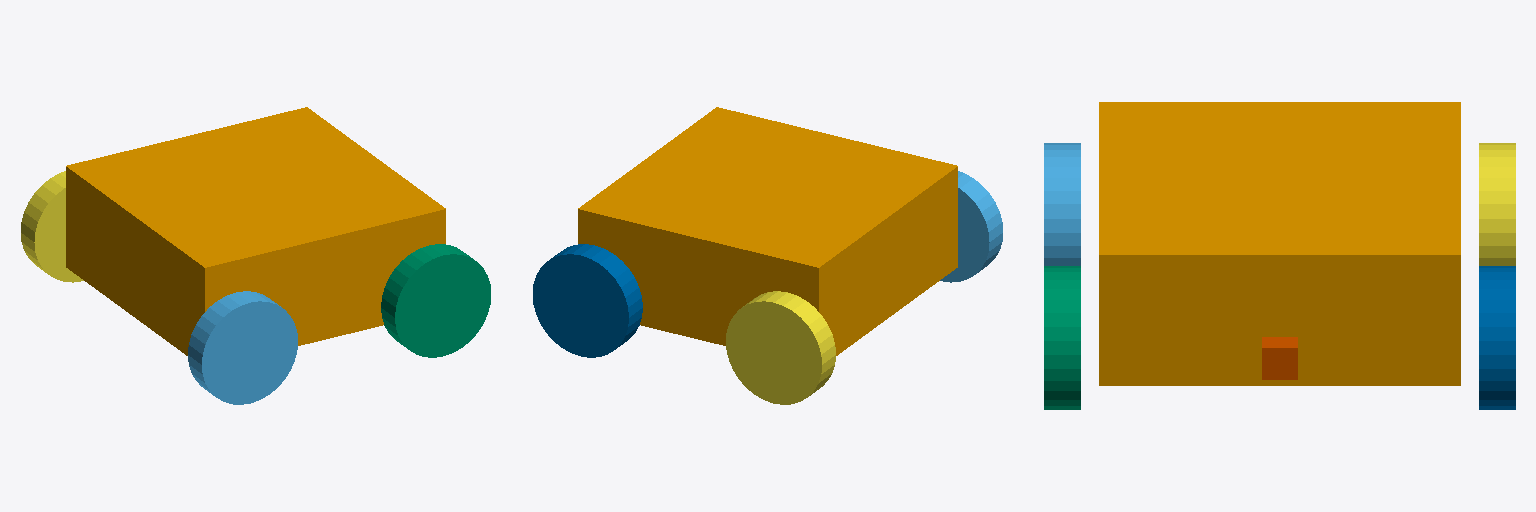
The robot description file, URDF, robot "atom":
<?xml version="1.0" encoding="utf-8"?>
<!-- =================================================================================== -->
<!-- |    This document was autogenerated by xacro from mid40_atom.xacro               | -->
<!-- |    EDITING THIS FILE BY HAND IS NOT RECOMMENDED                                 | -->
<!-- =================================================================================== -->
<robot name="atom">
  <!-- Make Chassis of Bot -->
  <link name="chassis">
    <pose>0 0 0.1 0 0 0</pose>
    <inertial>
      <mass value="15"/>
      <origin rpy=" 0 0 0" xyz="0.0 0 0"/>
      <inertia ixx="0.147116667" ixy="0" ixz="0" iyy="0.334951167" iyz="0" izz="0.3978345"/>
    </inertial>
    <collision name="collision">
      <origin rpy=" 0 0 0" xyz="0 0 0.05"/>
      <geometry>
        <box size="0.5 0.5 0.2"/>
      </geometry>
    </collision>
    <visual name="chassis_visual">
      <origin rpy=" 0 0 0" xyz="0 0 0.05"/>
      <geometry>
        <box size="0.5 0.5 0.2"/>
      </geometry>
    </visual>
  </link>
  <!-- Right Wheel Back -->
  <link name="right_wheel_back">
    <inertial>
      <mass value="5"/>
      <origin rpy="0 1.5707 1.5707" xyz="0 0 0"/>
      <inertia ixx="0.1" ixy="0.0" ixz="0.0" iyy="0.1" iyz="0.0" izz="0.1"/>
    </inertial>
    <visual>
      <origin rpy="0 1.5707 1.5707" xyz="0 0 0"/>
      <geometry>
        <cylinder length="0.05" radius="0.1"/>
      </geometry>
    </visual>
    <collision>
      <origin rpy="0 1.5707 1.5707" xyz="0 0 0"/>
      <geometry>
        <cylinder length="0.05" radius="0.1"/>
      </geometry>
    </collision>
  </link>
  <!-- Right Wheel Front-->
  <link name="right_wheel_front">
    <inertial>
      <mass value="5"/>
      <origin rpy="0 1.5707 1.5707" xyz="0 0 0"/>
      <inertia ixx="0.1" ixy="0.0" ixz="0.0" iyy="0.1" iyz="0.0" izz="0.1"/>
    </inertial>
    <visual>
      <origin rpy="0 1.5707 1.5707" xyz="0 0 0"/>
      <geometry>
        <cylinder length="0.05" radius="0.1"/>
      </geometry>
    </visual>
    <collision>
      <origin rpy="0 1.5707 1.5707" xyz="0 0 0"/>
      <geometry>
        <cylinder length="0.05" radius="0.1"/>
      </geometry>
    </collision>
  </link>
  <!-- Left wheel Back-->
  <link name="left_wheel_back">
    <inertial>
      <mass value="5"/>
      <origin rpy="0 1.5707 1.5707" xyz="0 0 0"/>
      <inertia ixx="0.1" ixy="0.0" ixz="0.0" iyy="0.1" iyz="0.0" izz="0.1"/>
    </inertial>
    <visual>
      <origin rpy="0 1.5707 1.5707" xyz="0 0 0"/>
      <geometry>
        <cylinder length="0.05" radius="0.1"/>
      </geometry>
    </visual>
    <collision>
      <origin rpy="0 1.5707 1.5707" xyz="0 0 0"/>
      <geometry>
        <cylinder length="0.05" radius="0.1"/>
      </geometry>
    </collision>
  </link>
  <!-- Left wheel Front-->
  <link name="left_wheel_front">
    <inertial>
      <mass value="5"/>
      <origin rpy="0 1.5707 1.5707" xyz="0 0 0"/>
      <inertia ixx="0.1" ixy="0.0" ixz="0.0" iyy="0.1" iyz="0.0" izz="0.1"/>
    </inertial>
    <visual>
      <origin rpy="0 1.5707 1.5707" xyz="0 0 0"/>
      <geometry>
        <cylinder length="0.05" radius="0.1"/>
      </geometry>
    </visual>
    <collision>
      <origin rpy="0 1.5707 1.5707" xyz="0 0 0"/>
      <geometry>
        <cylinder length="0.05" radius="0.1"/>
      </geometry>
    </collision>
  </link>
  <!-- Camera -->
  <link name="camera">
    <inertial>
      <mass value="0.1"/>
      <origin rpy="0 0 0" xyz="0 0 0"/>
      <inertia ixx="1e-6" ixy="0.0" ixz="0.0" iyy="1e-6" iyz="0.0" izz="1e-6"/>
    </inertial>
    <visual>
      <origin rpy="0 0 0" xyz="0 0 0"/>
      <geometry>
        <box size="0.05 0.05 0.05"/>
      </geometry>
    </visual>
    <collision>
      <origin rpy="0 0 0" xyz="0 0 0"/>
      <geometry>
        <box size="0.05 0.05 0.05"/>
      </geometry>
    </collision>
  </link>
  <!-- livox mid40 Lidar -->
  <link name="Livox_Mid40">
    <inertial>
      <mass value="0.1"/>
      <inertia ixx="0.01" ixy="0" ixz="0" iyy="0.01" iyz="0" izz="0.01"/>
    </inertial>
    <visual>
      <origin rpy="0 0 0" xyz="0.00 0 0.00"/>
      <geometry>
        <mesh filename="package://livox_laser_simulation/meshes/livox_mid40.dae">
		  </mesh>
      </geometry>
    </visual>
    <collision>
      <origin rpy="0 0 0" xyz="0 0 0"/>
      <geometry>
        <mesh filename="package://livox_laser_simulation/meshes/livox_mid40.dae"> 
			  </mesh>
      </geometry>
    </collision>
  </link>
  <!-- Project center to the ground -->
  <link name="robot_footprint"/>
  <!-- Define Joints -->
  <!-- Right Wheel Joint Back-->
  <joint name="right_wheel_hinge_back" type="continuous">
    <origin rpy="0 0 0" xyz="-0.2 -0.30 0"/>
    <parent link="chassis"/>
    <child link="right_wheel_back"/>
    <axis rpy="0 0 0" xyz="0 1 0"/>
    <limit effort="10000" velocity="1000"/>
    <dynamics damping="1.0" friction="1.0"/>
  </joint>
  <!-- Right Wheel Joint Front-->
  <joint name="right_wheel_hinge_front" type="continuous">
    <origin rpy="0 0 0" xyz="0.2 -0.30 0"/>
    <parent link="chassis"/>
    <child link="right_wheel_front"/>
    <axis rpy="0 0 0" xyz="0 1 0"/>
    <limit effort="10000" velocity="1000"/>
    <dynamics damping="1.0" friction="1.0"/>
  </joint>
  <!-- Left Wheel Joint Back-->
  <joint name="left_wheel_hinge_back" type="continuous">
    <origin rpy="0 0 0" xyz="-0.2 0.30 0"/>
    <parent link="chassis"/>
    <child link="left_wheel_back"/>
    <axis rpy="0 0 0" xyz="0 1 0"/>
    <limit effort="10000" velocity="1000"/>
    <dynamics damping="1.0" friction="1.0"/>
  </joint>
  <!-- Left Wheel Joint Front-->
  <joint name="left_wheel_hinge_front" type="continuous">
    <origin rpy="0 0 0" xyz="0.2 0.30 0"/>
    <parent link="chassis"/>
    <child link="left_wheel_front"/>
    <axis rpy="0 0 0" xyz="0 1 0"/>
    <limit effort="10000" velocity="1000"/>
    <dynamics damping="1.0" friction="1.0"/>
  </joint>
  <!-- Camera Joint -->
  <joint name="camera_joint" type="fixed">
    <origin rpy="0 0 0" xyz="0.26 0 0"/>
    <parent link="chassis"/>
    <child link="camera"/>
    <axis xyz="0 1 0"/>
  </joint>
  <!-- livox mid40 Joint -->
  <joint name="livox_mid40_joint" type="fixed">
    <origin rpy="0 0 0" xyz="0.2 0 0.2"/>
    <parent link="chassis"/>
    <child link="Livox_Mid40"/>
    <axis xyz="0 1 0"/>
  </joint>
  <joint name="robot_footprint_joint" type="fixed">
    <origin rpy="0 0 0" xyz="0 0 0"/>
    <parent link="robot_footprint"/>
    <child link="chassis"/>
  </joint>
  <!-- Color of bot -->
  <gazebo reference="left_wheel_front">
    <material>Gazebo/Green</material>
    <kp>1000000.0</kp>
    <!-- kp and kd for rubber -->
    <kd>100.0</kd>
    <mu1>1.0</mu1>
    <mu2>1.0</mu2>
    <maxVel>1.0</maxVel>
    <minDepth>0.00</minDepth>
  </gazebo>
  <gazebo reference="left_wheel_back">
    <material>Gazebo/Green</material>
    <kp>1000000.0</kp>
    <!-- kp and kd for rubber -->
    <kd>100.0</kd>
    <mu1>1.0</mu1>
    <mu2>1.0</mu2>
    <maxVel>1.0</maxVel>
    <minDepth>0.00</minDepth>
  </gazebo>
  <gazebo reference="right_wheel_front">
    <material>Gazebo/Green</material>
    <kp>1000000.0</kp>
    <!-- kp and kd for rubber -->
    <kd>100.0</kd>
    <mu1>1.0</mu1>
    <mu2>1.0</mu2>
    <maxVel>1.0</maxVel>
    <minDepth>0.00</minDepth>
  </gazebo>
  <gazebo reference="right_wheel_back">
    <material>Gazebo/Green</material>
    <kp>1000000.0</kp>
    <!-- kp and kd for rubber -->
    <kd>100.0</kd>
    <mu1>1.0</mu1>
    <mu2>1.0</mu2>
    <maxVel>1.0</maxVel>
    <minDepth>0.00</minDepth>
  </gazebo>
  <!--<gazebo reference="right_wheel">
		<material>Gazebo/Green</material>
	</gazebo>-->
  <gazebo reference="camera">
    <material>Gazebo/Red</material>
  </gazebo>
  <gazebo reference="chassis">
    <material>Gazebo/Blue</material>
  </gazebo>
  <gazebo>
    <plugin filename="libgazebo_ros_skid_steer_drive.so" name="skid_steer_drive_controller">
      <updateRate>10.0</updateRate>
      <robotNamespace>/atom</robotNamespace>
      <leftFrontJoint>left_wheel_hinge_front</leftFrontJoint>
      <rightFrontJoint>right_wheel_hinge_front</rightFrontJoint>
      <leftRearJoint>left_wheel_hinge_back</leftRearJoint>
      <rightRearJoint>right_wheel_hinge_back</rightRearJoint>
      <wheelSeparation>0.4</wheelSeparation>
      <wheelDiameter>0.2</wheelDiameter>
      <robotBaseFrame>robot_footprint</robotBaseFrame>
      <torque>10</torque>
      <topicName>cmd_vel</topicName>
      <odometryTopic>odom</odometryTopic>
      <odometryFrame>odom</odometryFrame>
      <commandTopic>cmd_vel</commandTopic>
      <topic_name_twist>cmd_vel</topic_name_twist>
      <topic_name_odometry>odom</topic_name_odometry>
      <topic_name_joint>joint</topic_name_joint>
      <broadcastTF>true</broadcastTF>
      <covariance_x>0.0001</covariance_x>
      <covariance_y>0.0001</covariance_y>
      <covariance_yaw>0.01</covariance_yaw>
    </plugin>
  </gazebo>
  <!-- camera -->
  <gazebo reference="camera">
    <sensor name="camera1" type="camera">
      <update_rate>30.0</update_rate>
      <camera name="head">
        <horizontal_fov>1.3962634</horizontal_fov>
        <image>
          <width>800</width>
          <height>800</height>
          <format>R8G8B8</format>
        </image>
        <clip>
          <near>0.02</near>
          <far>300</far>
        </clip>
      </camera>
      <plugin filename="libgazebo_ros_camera.so" name="camera_controller">
        <robotNamespace>/atom</robotNamespace>
        <alwaysOn>true</alwaysOn>
        <updateRate>0.0</updateRate>
        <cameraName>camera</cameraName>
        <imageTopicName>rgb/image_raw</imageTopicName>
        <cameraInfoTopicName>rgb/camera_info</cameraInfoTopicName>
        <frameName>camera</frameName>
        <hackBaseline>0.07</hackBaseline>
        <distortionK1>0.0</distortionK1>
        <distortionK2>0.0</distortionK2>
        <distortionK3>0.0</distortionK3>
        <distortionT1>0.0</distortionT1>
        <distortionT2>0.0</distortionT2>
      </plugin>
    </sensor>
  </gazebo>
  <!-- hokuyo -->
  <gazebo reference="hokuyo">
    <sensor name="head_hokuyo_sensor" type="ray">
      <pose>0 0 0 0 0 0</pose>
      <visualize>false</visualize>
      <update_rate>40</update_rate>
      <ray>
        <scan>
          <horizontal>
            <samples>720</samples>
            <resolution>1</resolution>
            <min_angle>-1.570796</min_angle>
            <max_angle>1.570796</max_angle>
          </horizontal>
        </scan>
        <range>
          <min>0.10</min>
          <max>30.0</max>
          <resolution>0.01</resolution>
        </range>
        <noise>
          <type>gaussian</type>
          <!-- Noise parameters based on published spec for Hokuyo laser
               achieving "+-30mm" accuracy at range < 10m.  A mean of 0.0m and
               stddev of 0.01m will put 99.7% of samples within 0.03m of the true
               reading. -->
          <mean>0.0</mean>
          <stddev>0.01</stddev>
        </noise>
      </ray>
      <plugin filename="libgazebo_ros_laser.so" name="gazebo_ros_head_hokuyo_controller">
        <topicName>/scan</topicName>
        <frameName>hokuyo</frameName>
        <robotNamespace>/atom</robotNamespace>
      </plugin>
    </sensor>
  </gazebo>
  <gazebo reference="Livox_Mid40">
    <sensor name="laser_Livox_Mid40" type="ray">
      <pose>0 0 0 0 0 0</pose>
      <visualize>True</visualize>
      <update_rate>10</update_rate>
      <!-- This ray plgin is only for visualization. -->
      <plugin filename="liblivox_laser_simulation.so" name="gazebo_ros_laser_controller">
        <ray>
          <scan>
            <horizontal>
              <samples>100</samples>
              <resolution>1</resolution>
              <min_angle>-0.712966397222</min_angle>
              <max_angle>0.712966397222</max_angle>
            </horizontal>
            <vertical>
              <samples>50</samples>
              <resolution>1</resolution>
              <min_angle>-0.219038636111</min_angle>
              <max_angle>0.219038636111</max_angle>
            </vertical>
          </scan>
          <range>
            <min>0.1</min>
            <max>200.0</max>
            <resolution>0.002</resolution>
          </range>
          <noise>
            <type>gaussian</type>
            <mean>0.0</mean>
            <stddev>0.01</stddev>
          </noise>
        </ray>
        <visualize>True</visualize>
        <samples>24000</samples>
        <downsample>1</downsample>
        <csv_file_name>package://livox_laser_simulation/scan_mode/mid40.csv</csv_file_name>
        <ros_topic>scan</ros_topic>
      </plugin>
    </sensor>
  </gazebo>
</robot>

--- What the picture shows (computed from the rendered views, not written in the file) ---
Views: 3 orthographic renders of the robot side by side, from view 1: azimuth 30°, elevation 25°; view 2: azimuth 150°, elevation 25°; view 3: azimuth 270°, elevation 25°.
Model atom with 8 links and 7 joints (4 continuous, 3 fixed), rooted at robot_footprint, posed every joint at zero.
Links seen in each view (by area): view 1: chassis, right_wheel_front, right_wheel_back, left_wheel_back; view 2: chassis, left_wheel_front, left_wheel_back, right_wheel_back; view 3: chassis, right_wheel_front, left_wheel_front, right_wheel_back, left_wheel_back, camera.
Boxes of the visible links, x1,y1,x2,y2 form: chassis: (66, 107, 445, 355); right_wheel_front: (381, 244, 490, 357); right_wheel_back: (188, 291, 297, 404); left_wheel_back: (21, 171, 83, 282); chassis: (578, 107, 957, 355); left_wheel_front: (533, 244, 642, 357); left_wheel_back: (726, 291, 835, 404); right_wheel_back: (940, 171, 1002, 282); chassis: (1099, 102, 1460, 385); right_wheel_front: (1044, 266, 1080, 409); left_wheel_front: (1479, 266, 1515, 409); right_wheel_back: (1044, 143, 1080, 265); left_wheel_back: (1479, 143, 1515, 265); camera: (1262, 337, 1297, 379).
Size in the robot's own frame: 0.6 by 0.65 by 0.25 metres.
Meshes: 1 distinct files referenced, 0 mesh visuals loaded (none loaded); not drawn: 1 (reference not matched to a file when rendering).
